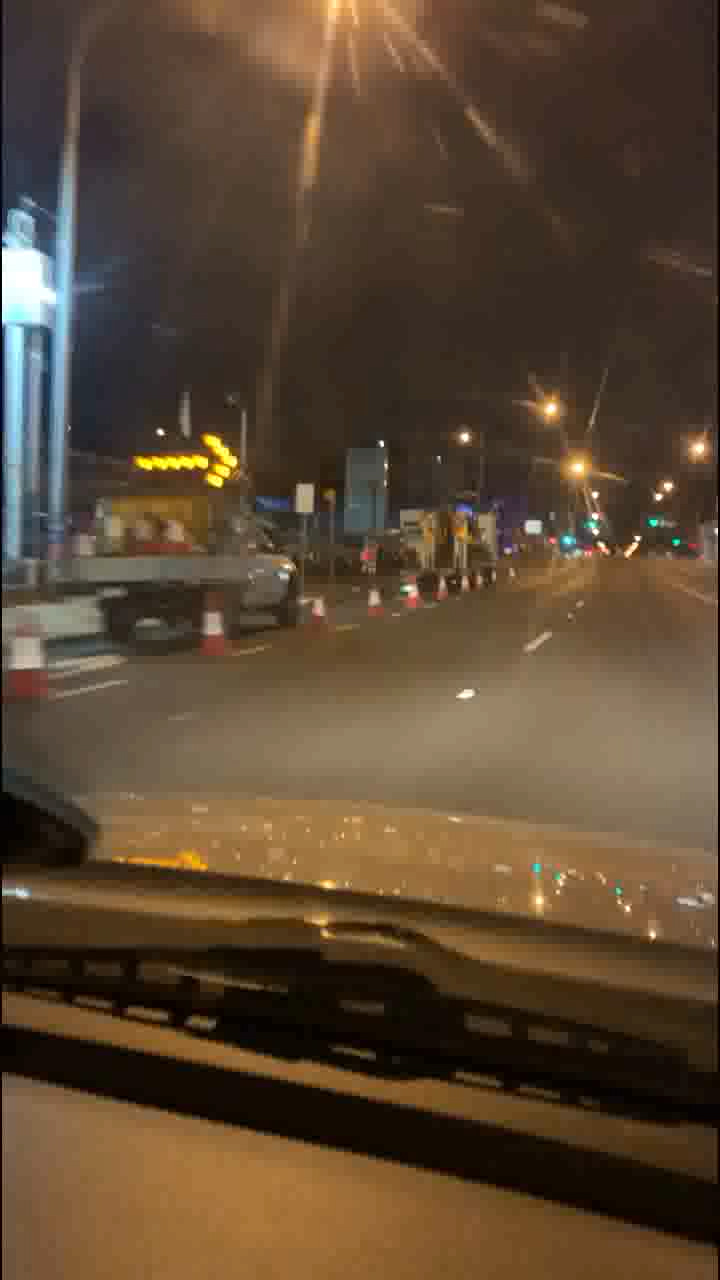truck: (90, 447, 310, 647), (402, 505, 508, 585)
